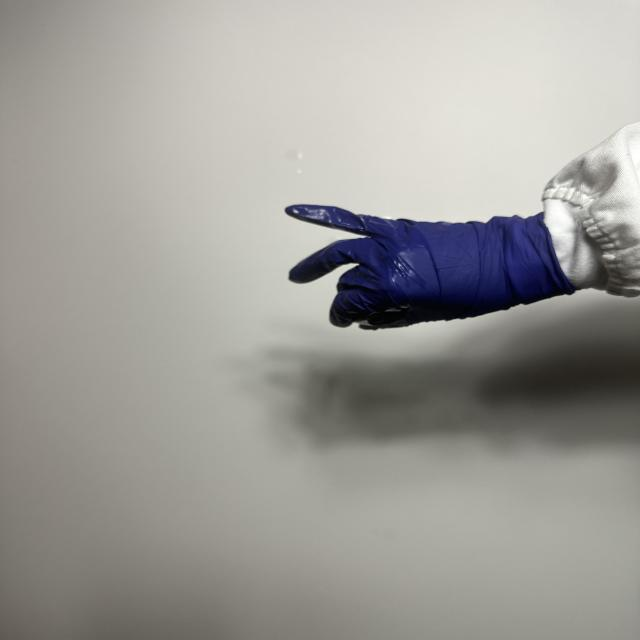gloves_contaminated: (286, 205, 574, 328)
